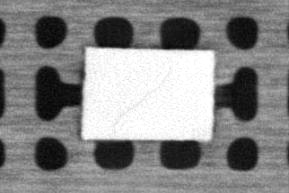DIE_CRACK: (113, 69, 171, 126)
